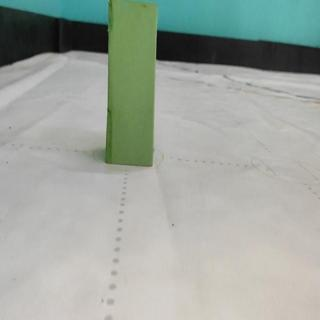greenbox: (105, 0, 157, 169)
